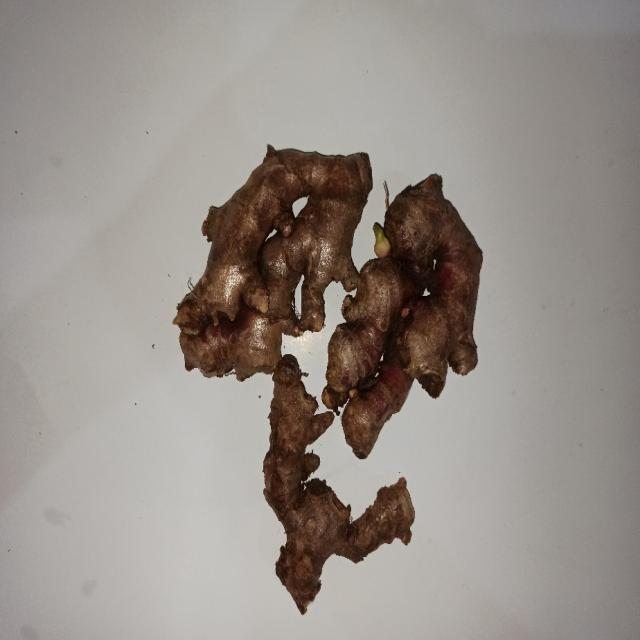ginger: (171, 149, 367, 377), (342, 174, 480, 458), (264, 374, 415, 621)
